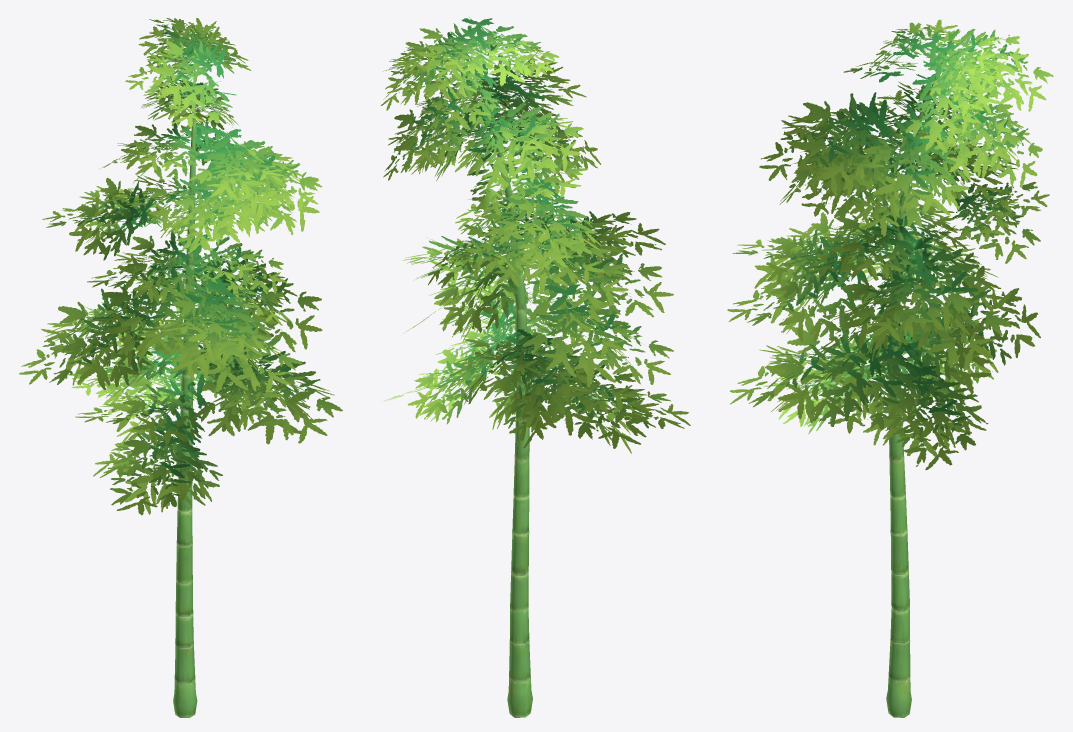
Rendered from SM_Bamboo1.glb.
3 views of the same model, side by side, from view 1: azimuth 30°, elevation 25°; view 2: azimuth 150°, elevation 25°; view 3: azimuth 270°, elevation 25° (orthographic). The views are drawn at different scales.
Parts seen in each view (by area): view 1: SM_Bamboo1; view 2: SM_Bamboo1; view 3: SM_Bamboo1.
Part boxes in pixels (box(x1,y1,x2,y2)): SM_Bamboo1: box(19, 18, 342, 717); SM_Bamboo1: box(381, 17, 690, 717); SM_Bamboo1: box(727, 19, 1053, 717).
Bounding box in the file's own units: 6.87 × 16 × 6.95.
Materials: 2 (2 with a texture image).
